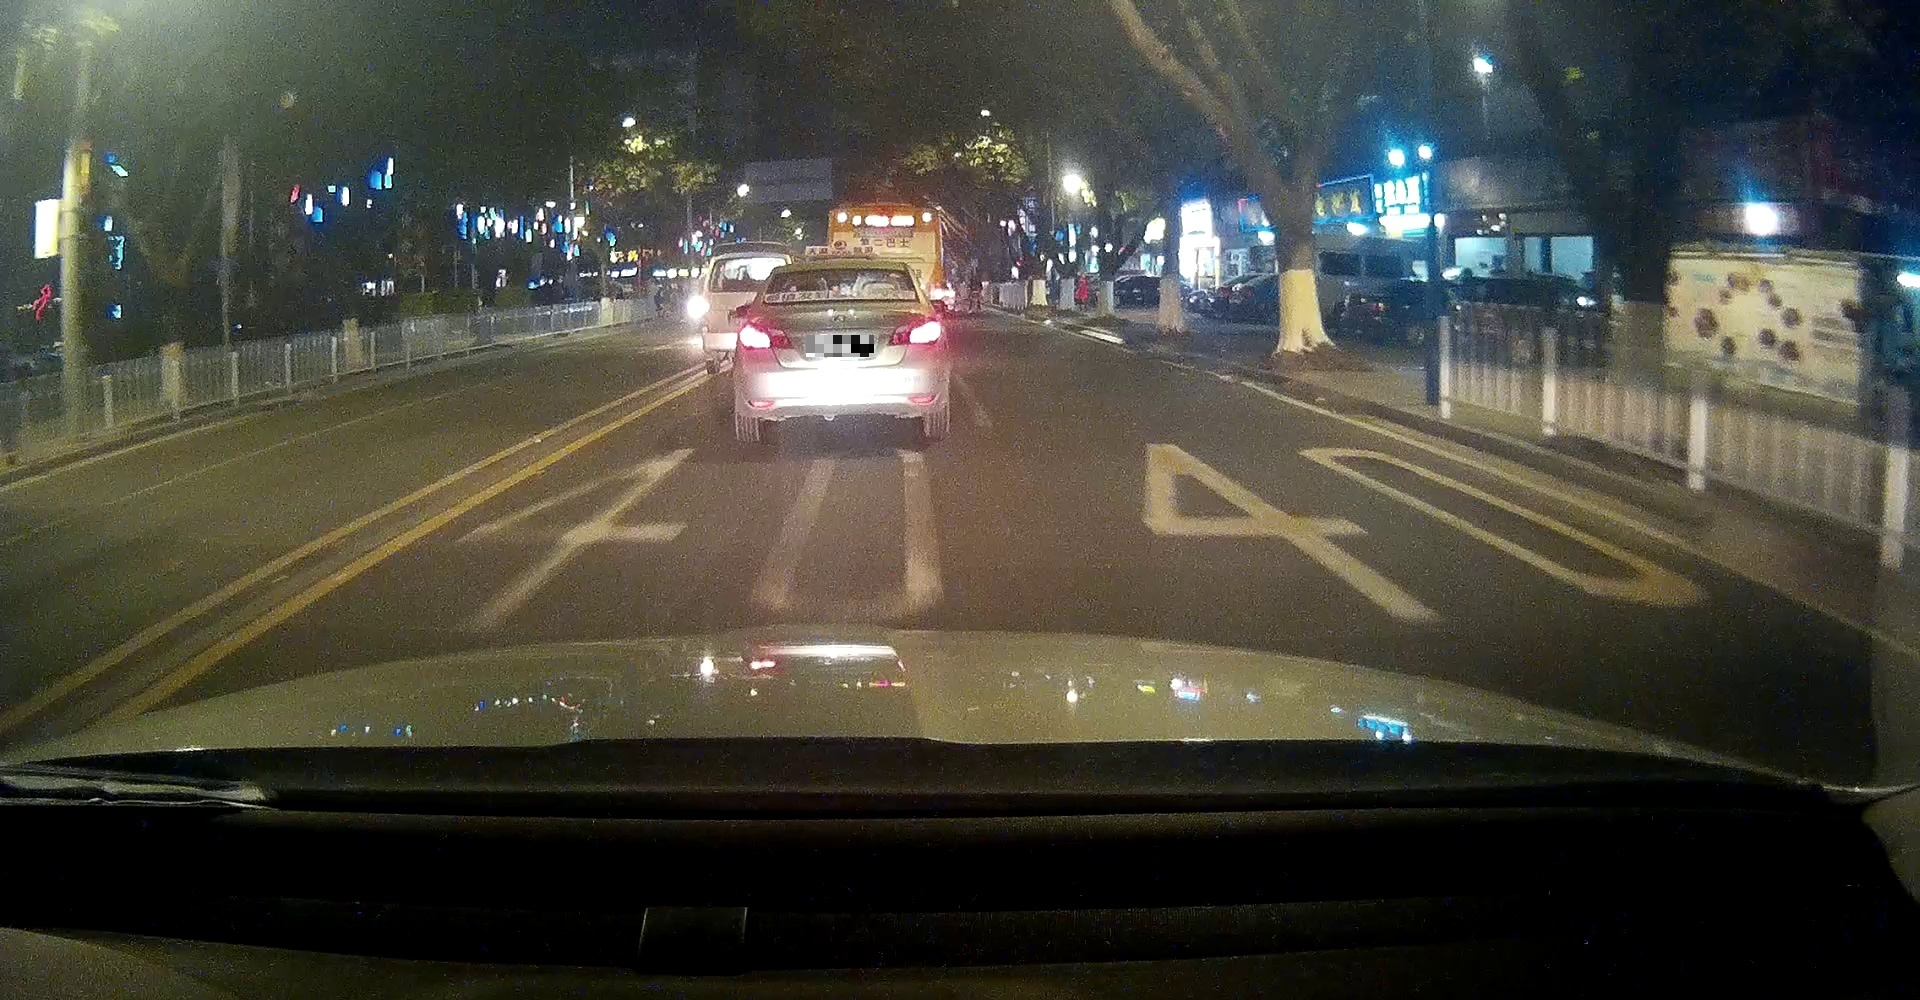L_light: (737, 319, 792, 352)
R_light: (888, 311, 943, 346)
T_light: (825, 264, 855, 272)
night-no: (731, 258, 949, 445)
plate_1: (806, 335, 874, 357)
